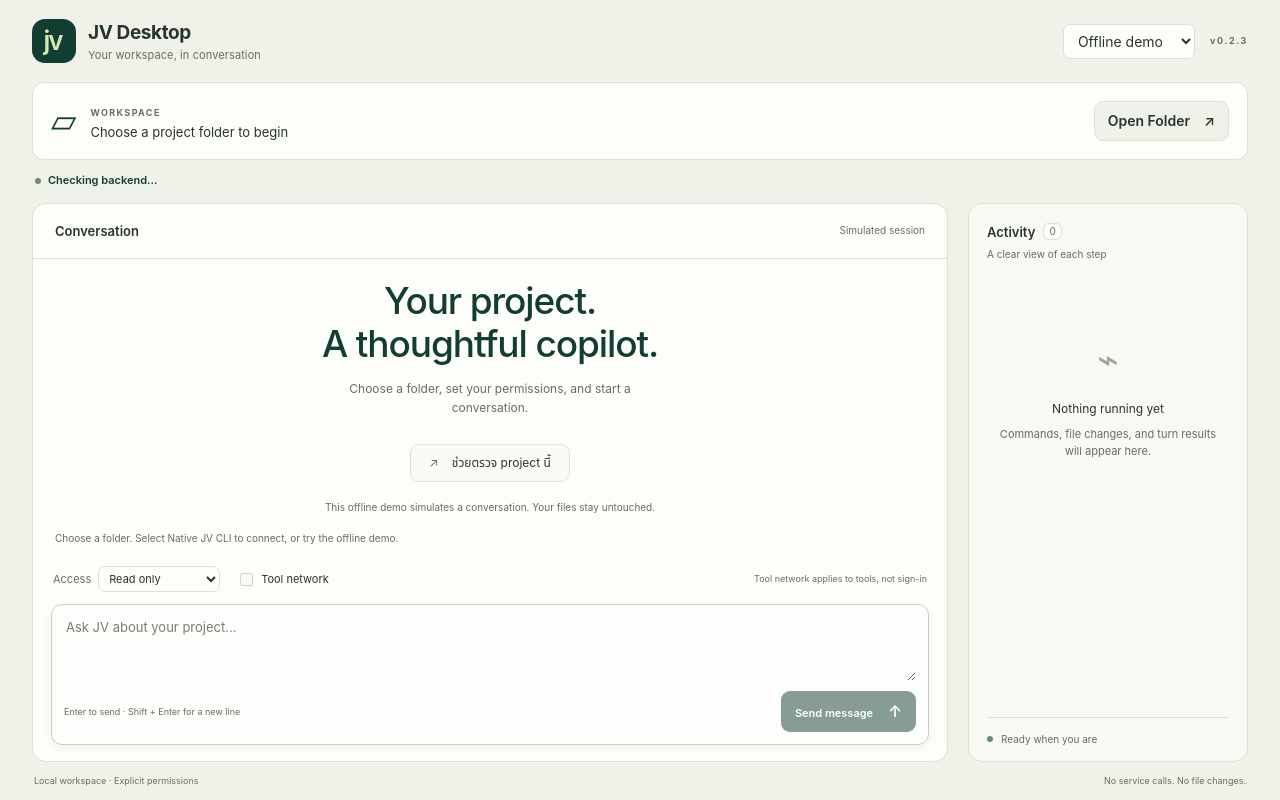
Test: memory-only bridge sign-in › explicitly selects structured without exposing attachment inputs
The image size is (1280, 800).
Select "Native JV CLI" in the dropdown named "Backend mode" at (1129, 41), box [1063,24,1195,59]
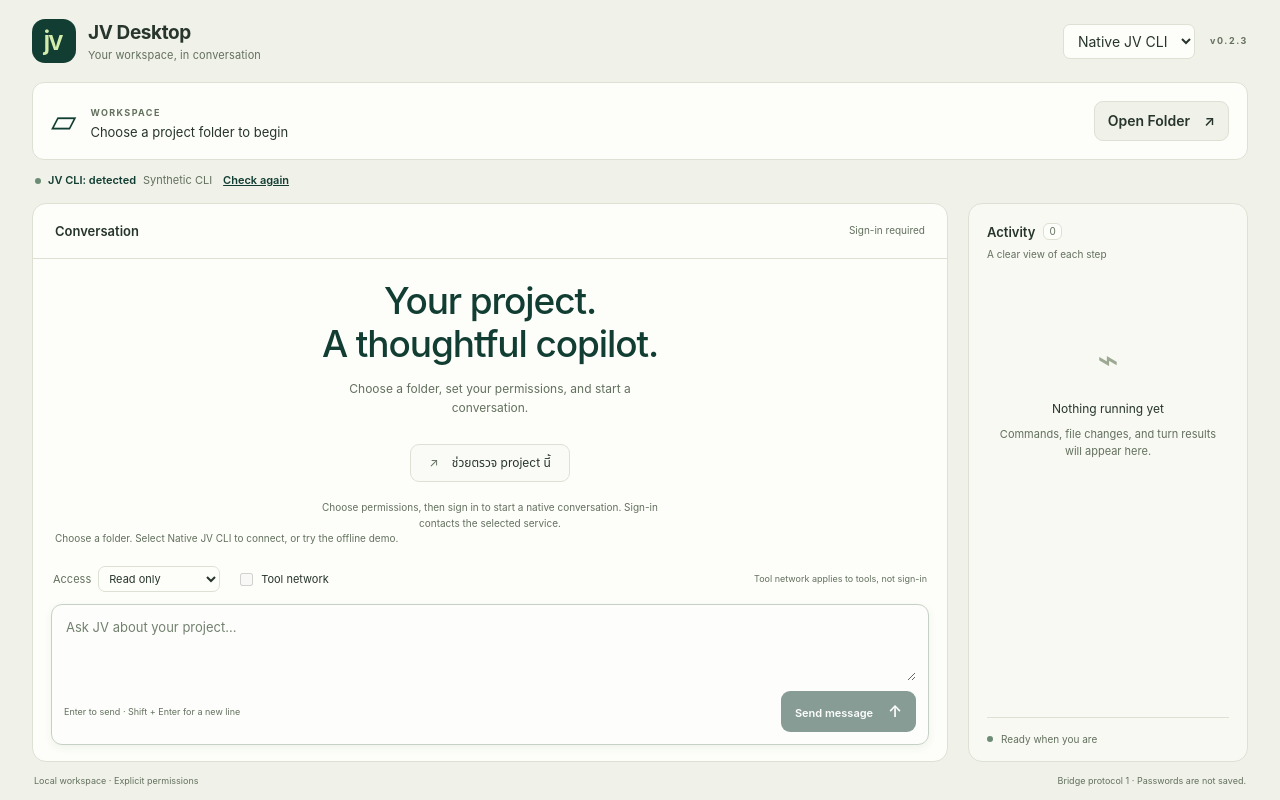
Expected: the text "JV CLI: detected" is shown, [48,172,136,189]
Click the button "Open Folder↗" at (1161, 121), box [1094,101,1229,141]
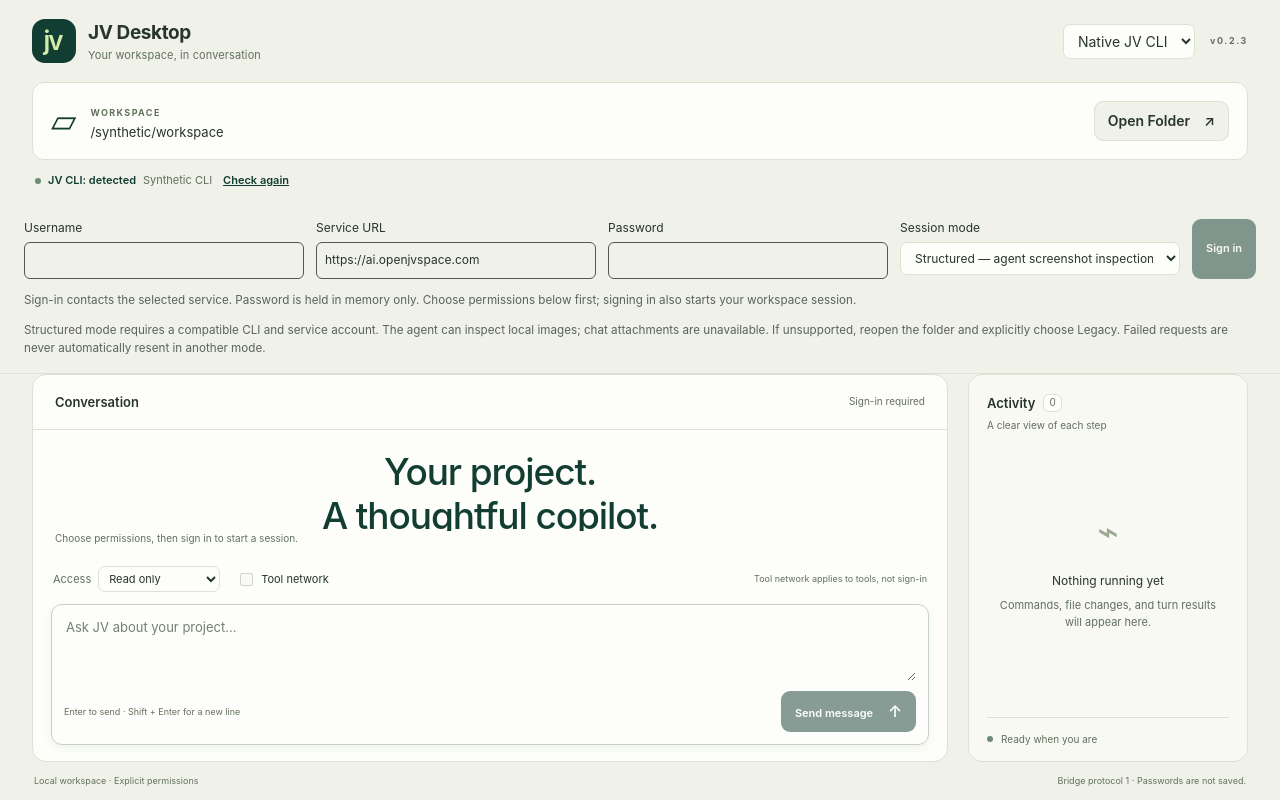
Expected: the dropdown labelled "Session mode" shows "Structured — agent screenshot inspection"
Select "Structured — agent screenshot inspection" in the dropdown labelled "Session mode" at (1040, 259), box [900,242,1180,275]
Type "synthetic" into the field labelled "Username" at (164, 261), box [24,242,304,279]
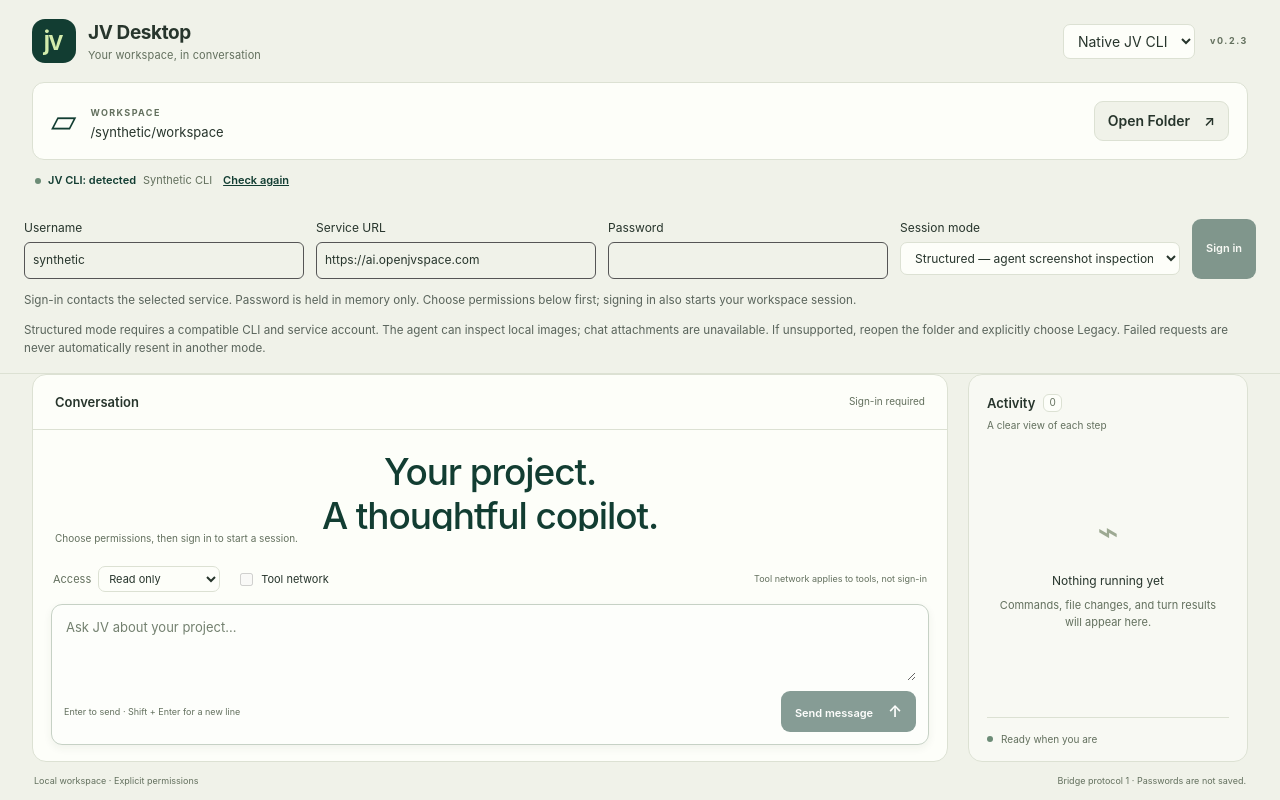
Type "FAKE_PASSWORD" into the password field labelled "Password" at (748, 261), box [608,242,888,279]
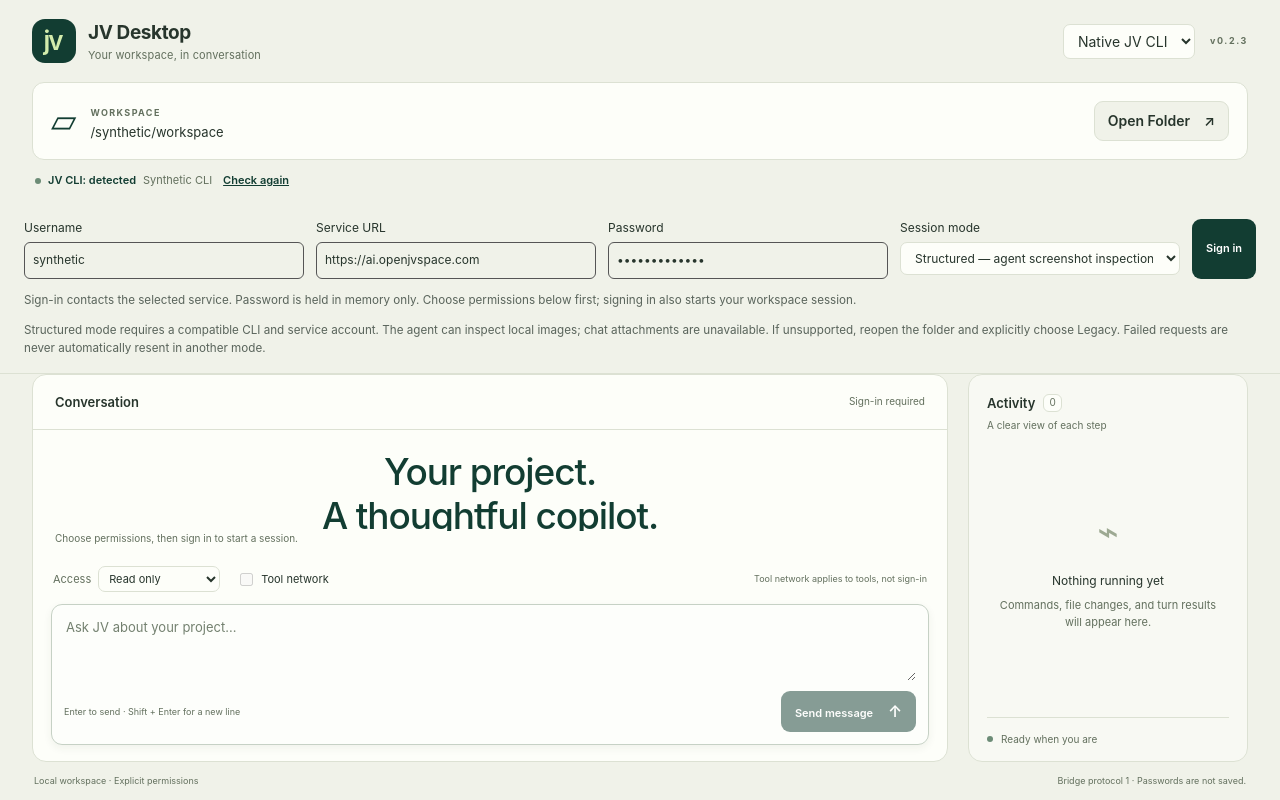
Click the button "Sign in" at (1224, 249), box [1192,219,1256,279]
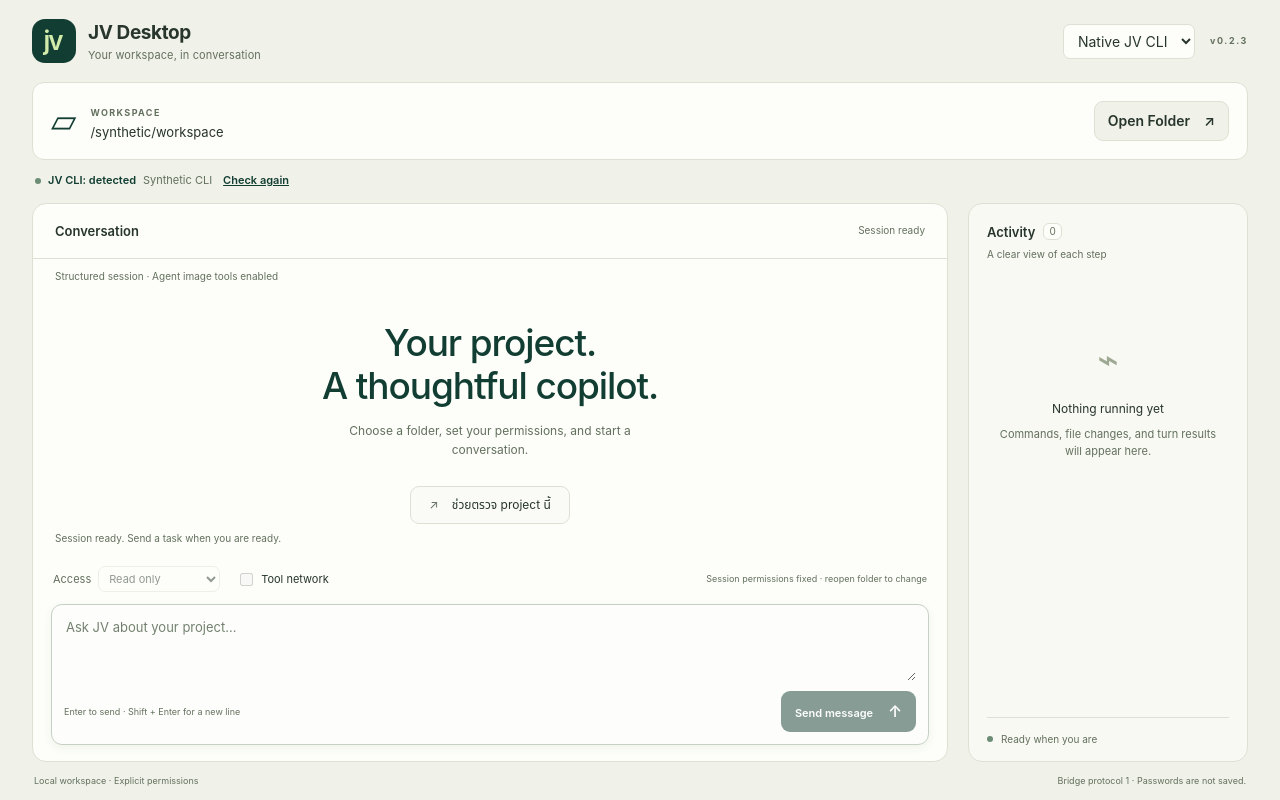
Expected: the text "Structured session · Agent image tools enabled" is shown, [55,270,278,282]
